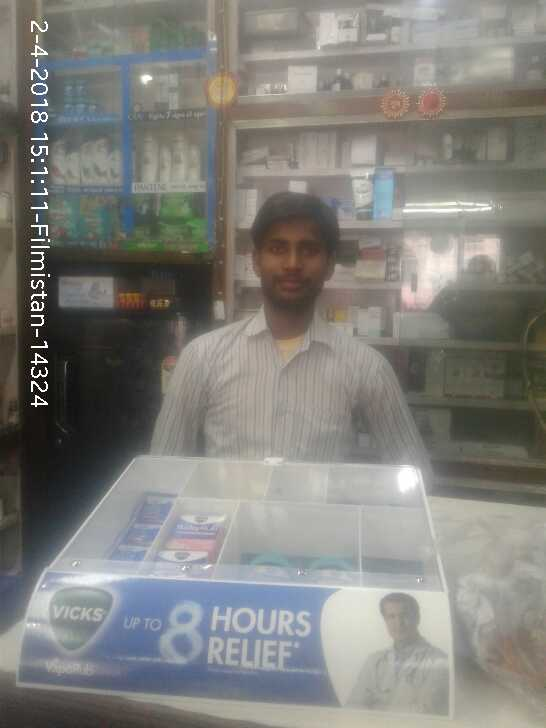vicks: (156, 511, 229, 568), (61, 79, 101, 112)
